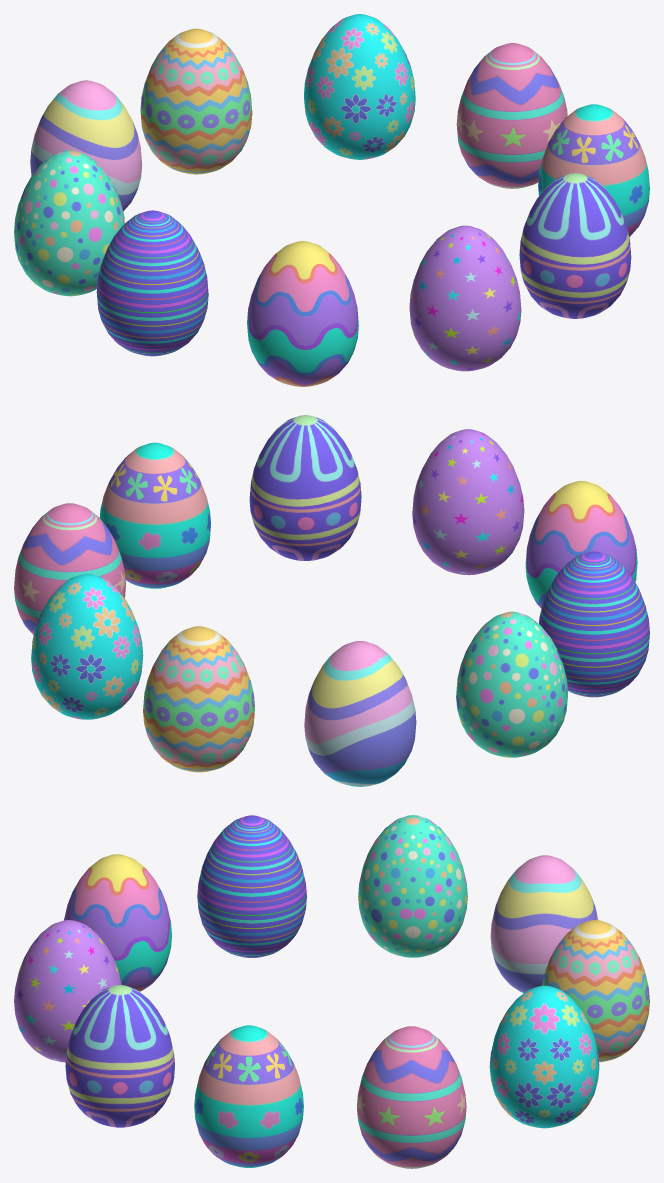
The model's file is easter-eggs.glb.
3 renders of one model, top to bottom at view 1: azimuth 30°, elevation 25°; view 2: azimuth 150°, elevation 25°; view 3: azimuth 270°, elevation 25°, orthographic. The views are drawn at different scales.
Parts seen in each view (by area): view 1: Egg01_Mat01_0, Egg06_Mat06_0, Egg10_Mat10_0, Egg03_Mat03_0, Egg02_Mat02_0, Egg07_Mat07_0, Egg04_Mat04_0, Egg08_Mat08_0, Egg05_Mat05_0, Egg09_Mat09_0; view 2: Egg06_Mat06_0, Egg05_Mat05_0, Egg01_Mat01_0, Egg07_Mat07_0, Egg10_Mat10_0, Egg04_Mat04_0, Egg09_Mat09_0, Egg03_Mat03_0, Egg08_Mat08_0, Egg02_Mat02_0; view 3: Egg07_Mat07_0, Egg04_Mat04_0, Egg03_Mat03_0, Egg08_Mat08_0, Egg09_Mat09_0, Egg10_Mat10_0, Egg01_Mat01_0, Egg06_Mat06_0, Egg05_Mat05_0, Egg02_Mat02_0.
Part boxes in pixels (x1,y1,x2,y2): Egg01_Mat01_0: (409,225,521,371); Egg06_Mat06_0: (140,28,252,174); Egg10_Mat10_0: (519,173,631,318); Egg03_Mat03_0: (96,210,208,356); Egg02_Mat02_0: (247,241,358,386); Egg07_Mat07_0: (304,14,415,159); Egg04_Mat04_0: (14,150,124,296); Egg08_Mat08_0: (456,43,567,188); Egg05_Mat05_0: (30,80,142,211); Egg09_Mat09_0: (538,104,649,236); Egg06_Mat06_0: (143,626,254,772); Egg05_Mat05_0: (304,641,416,786); Egg01_Mat01_0: (412,429,524,575); Egg07_Mat07_0: (31,573,143,719); Egg10_Mat10_0: (249,415,361,560); Egg04_Mat04_0: (456,611,567,757); Egg09_Mat09_0: (99,442,210,588); Egg03_Mat03_0: (539,551,649,697); Egg08_Mat08_0: (14,503,125,634); Egg02_Mat02_0: (525,481,637,608); Egg07_Mat07_0: (489,985,599,1128); Egg04_Mat04_0: (358,815,467,957); Egg03_Mat03_0: (197,815,306,957); Egg08_Mat08_0: (357,1026,466,1168); Egg09_Mat09_0: (194,1025,303,1167); Egg10_Mat10_0: (65,985,174,1127); Egg01_Mat01_0: (14,920,121,1062); Egg06_Mat06_0: (542,920,649,1062); Egg05_Mat05_0: (490,855,598,993); Egg02_Mat02_0: (64,854,171,991).
Bounding box in the file's own units: 11.1 × 2.72 × 11.59.
10 materials, 10 textured.
